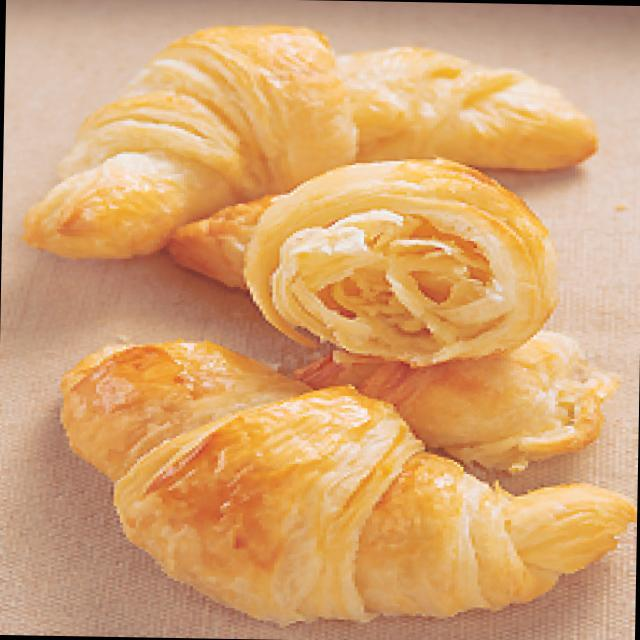Croissant: (24, 330, 640, 612)
